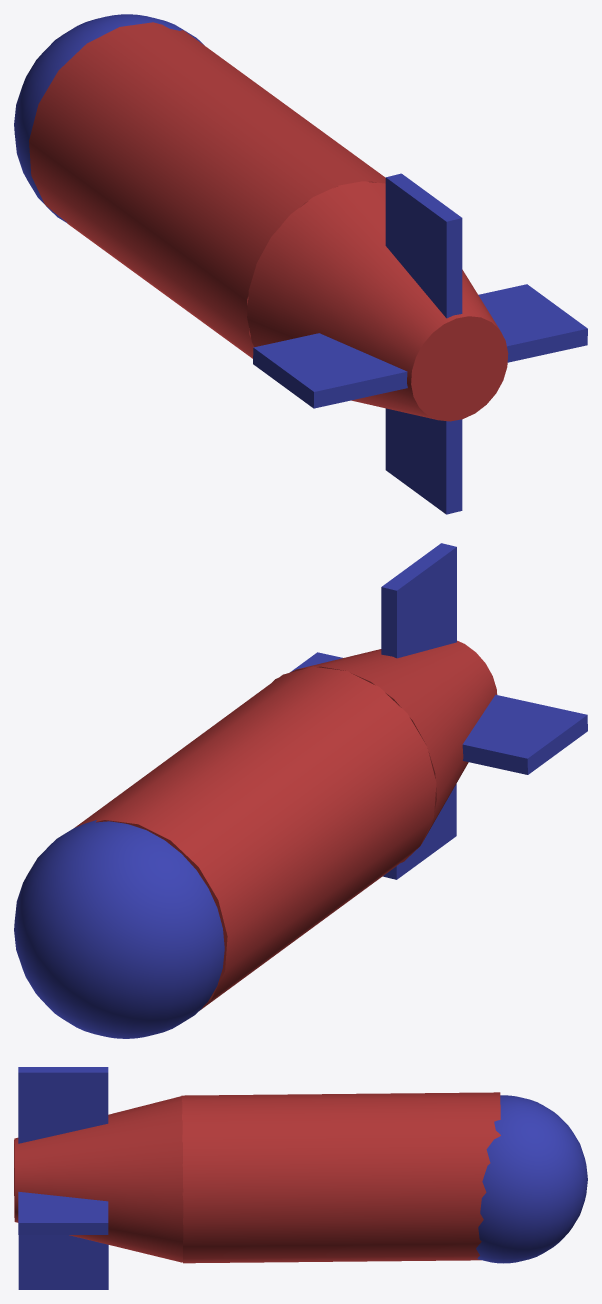
The model's file is bomb.fbx.
3 renders of one model, top to bottom at view 1: azimuth 30°, elevation 25°; view 2: azimuth 150°, elevation 25°; view 3: azimuth 270°, elevation 25°, orthographic. The views are drawn at different scales.
Parts seen in each view (by area): view 1: Cylinder01, Cone01, Box03, Box01, Box04, Box02, Sphere01; view 2: Cylinder01, Sphere01, Cone01, Box03, Box01, Box04; view 3: Cylinder01, Cone01, Sphere01, Box03, Box04, Box02.
Boxes of the visible parts, left/top/right/bottom form: Cylinder01: left=29, top=22, right=385, bottom=358; Cone01: left=247, top=181, right=508, bottom=421; Box03: left=385, top=173, right=462, bottom=318; Box01: left=253, top=333, right=407, bottom=408; Box04: left=385, top=408, right=462, bottom=514; Box02: left=478, top=284, right=587, bottom=362; Sphere01: left=14, top=14, right=204, bottom=222; Cylinder01: left=74, top=666, right=436, bottom=1009; Sphere01: left=14, top=820, right=224, bottom=1038; Cone01: left=272, top=640, right=497, bottom=863; Box03: left=381, top=543, right=456, bottom=658; Box01: left=462, top=694, right=587, bottom=774; Box04: left=383, top=784, right=456, bottom=879; Cylinder01: left=181, top=1092, right=500, bottom=1263; Cone01: left=14, top=1096, right=183, bottom=1262; Sphere01: left=476, top=1095, right=587, bottom=1263; Box03: left=18, top=1067, right=108, bottom=1143; Box04: left=18, top=1235, right=108, bottom=1289; Box02: left=18, top=1191, right=108, bottom=1234.
Size of the model in its own units: 790 by 806 by 1931.
